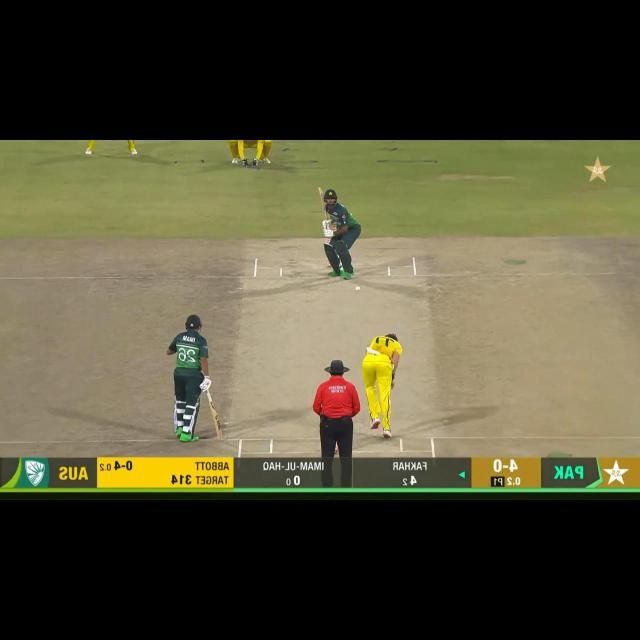bat: (208, 401, 225, 440), (316, 185, 329, 219)
toe: (216, 433, 224, 439), (316, 185, 323, 191)
